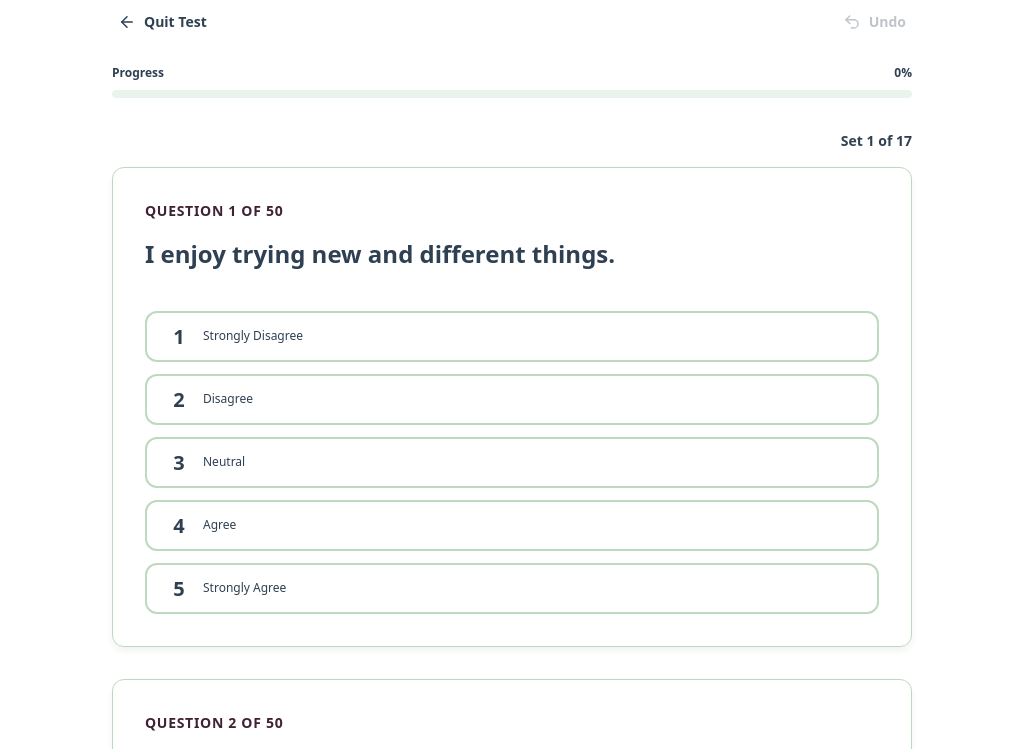
Test case: QuestionnairePage Component › enables undo button after the first answer
Check: the button "Undo" is disabled, box 837,12 -> 912,32
Step 1. Click the text "4" → click(179, 525), box 173,512 -> 185,539
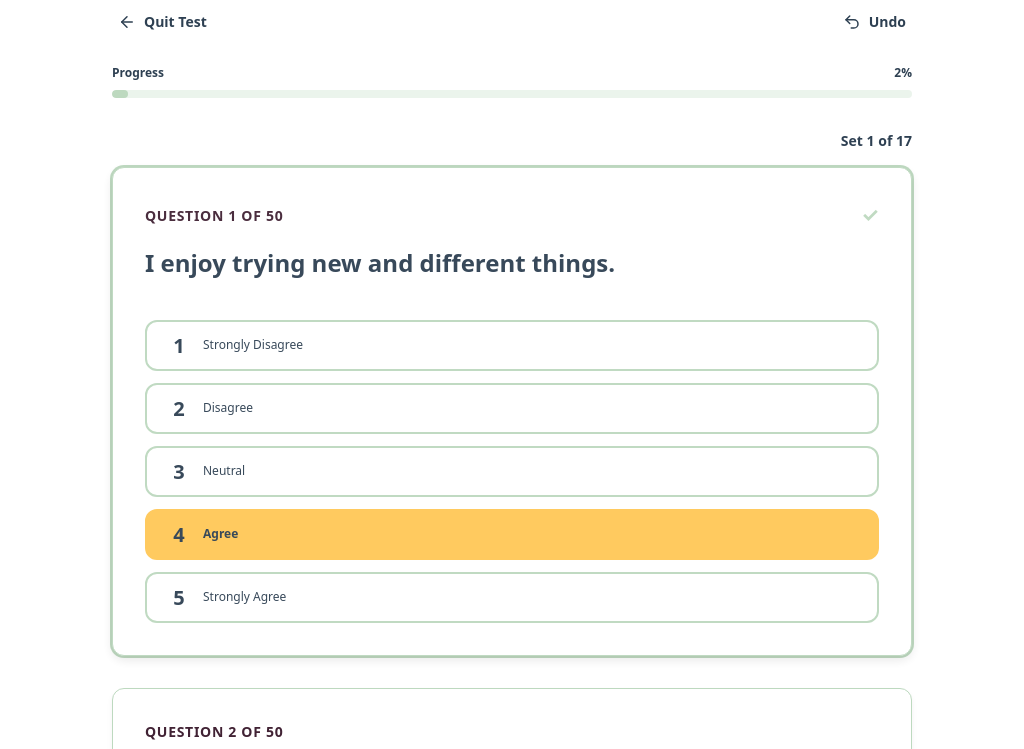
Check: the button "Undo" is enabled, box 837,12 -> 912,32
